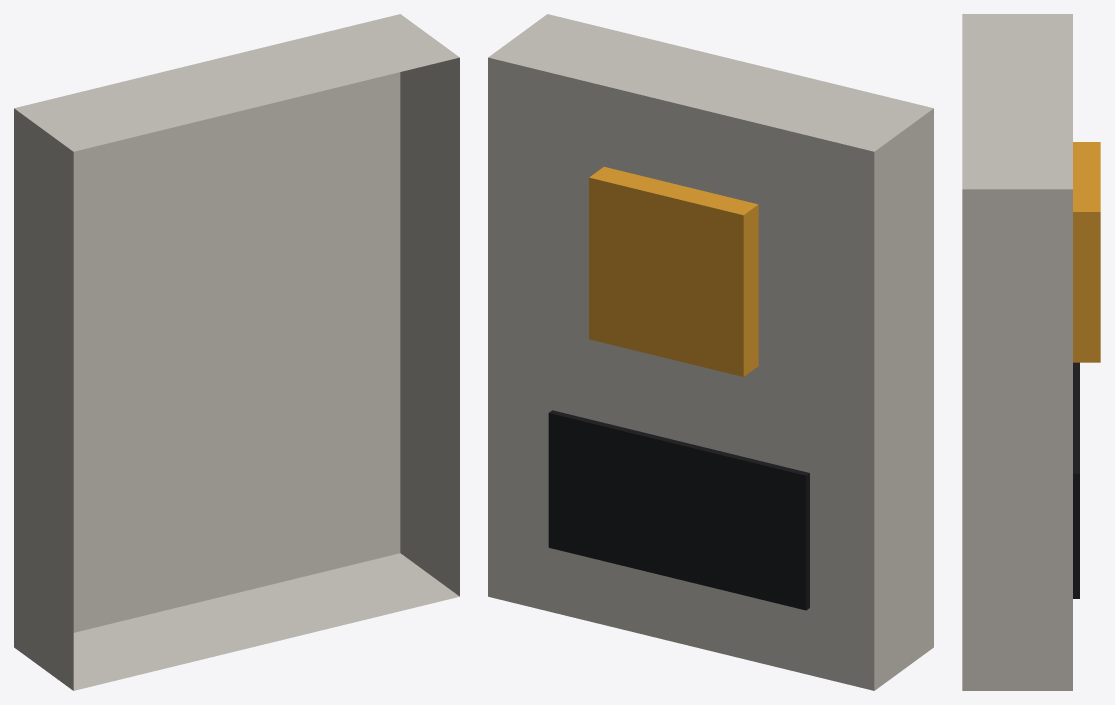
File: ws_door_panel.glb
3 views of the same model, side by side, from view 1: azimuth 30°, elevation 25°; view 2: azimuth 150°, elevation 25°; view 3: azimuth 270°, elevation 25° (orthographic). The views are drawn at different scales.
Visible parts, largest first — view 1: ws_door_panel; view 2: ws_door_panel; view 3: ws_door_panel.
Boxes of the visible parts, bbox=[...] form: ws_door_panel: bbox=[14, 14, 459, 690]; ws_door_panel: bbox=[488, 14, 933, 690]; ws_door_panel: bbox=[962, 14, 1100, 690].
Bounding box in the file's own units: 0.3 × 0.4 × 0.1.
